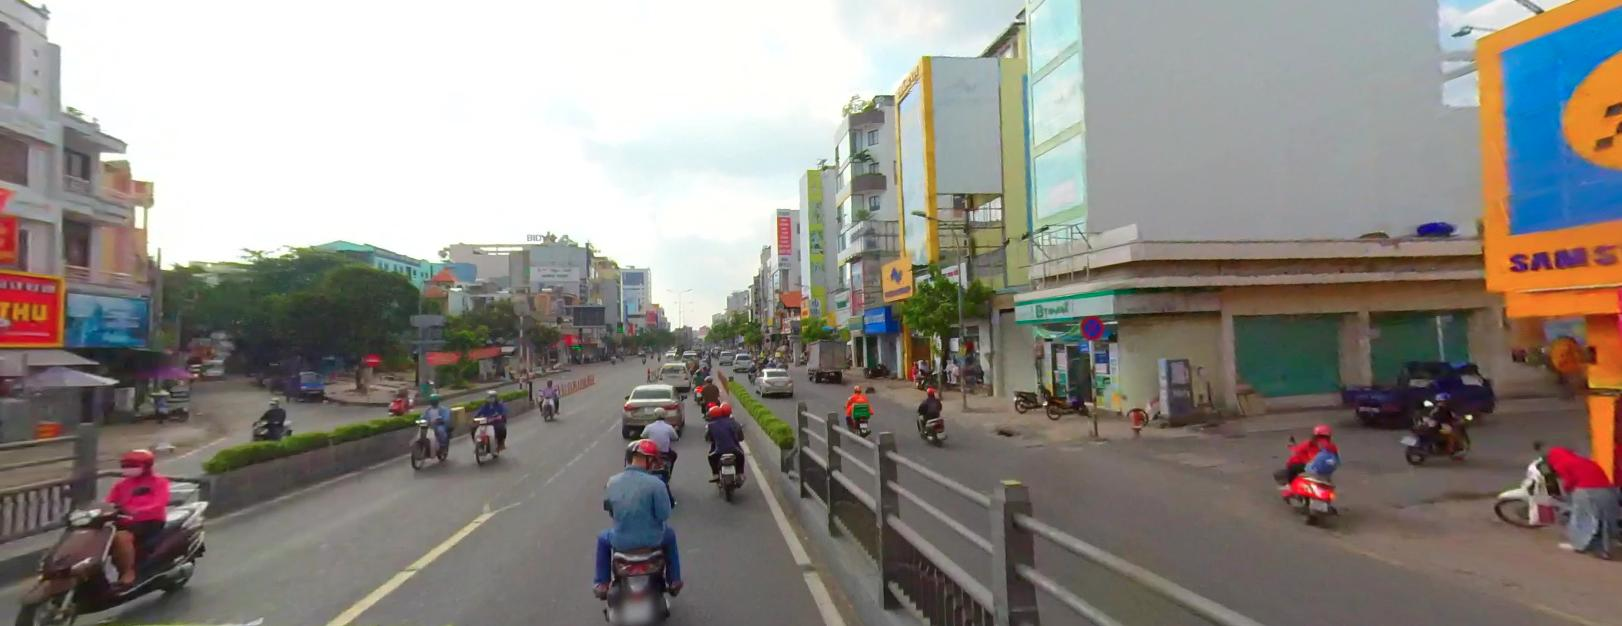Cam dung va do: (1079, 312, 1105, 338), (1080, 314, 1104, 337), (1080, 315, 1102, 338)
Cam nguoc chieu: (364, 351, 380, 365), (364, 351, 379, 364), (365, 352, 380, 365)
